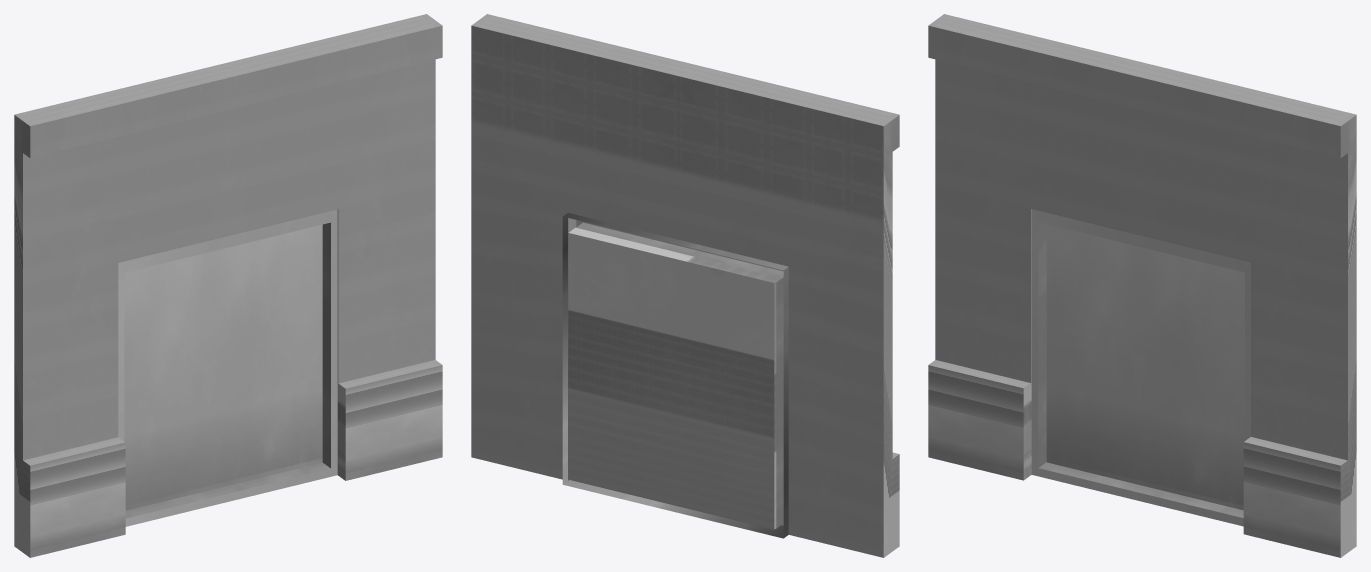
The model's file is squareWindows.fbx.
3 views of the same model, side by side, from view 1: azimuth 30°, elevation 25°; view 2: azimuth 150°, elevation 25°; view 3: azimuth 330°, elevation 25° (orthographic).
Parts seen in each view (by area): view 1: greyDoorWall245, door, doorFrame; view 2: greyDoorWall245, door, doorFrame; view 3: greyDoorWall245, door, doorFrame.
Boxes of the visible parts, box(x1,y1,x2,y2) form: greyDoorWall245: box(14, 14, 442, 557); door: box(124, 224, 322, 510); doorFrame: box(118, 209, 337, 526); greyDoorWall245: box(471, 14, 899, 557); door: box(568, 227, 781, 529); doorFrame: box(562, 213, 788, 538); greyDoorWall245: box(928, 14, 1356, 557); door: box(1046, 224, 1244, 510); doorFrame: box(1031, 209, 1250, 526).
Size of the model in its own units: 500 by 500 by 48.29.
